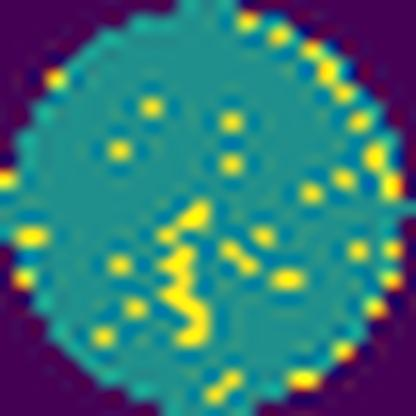Scratch: (150, 196, 222, 354)
